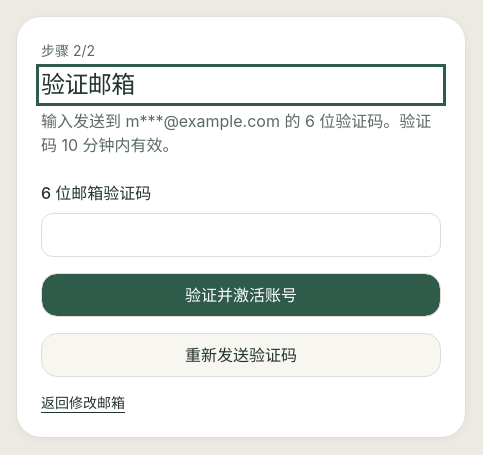
Test: authentication forms › uses the server retry_after cooldown and offers explicit network recovery
The width and height of the screenshot is (483, 455).
Expected: the field labelled "6 位邮箱验证码" is shown, [41, 213, 441, 257]
Click the button "重新发送验证码" at coordinates (241, 355), box [41, 333, 441, 377]
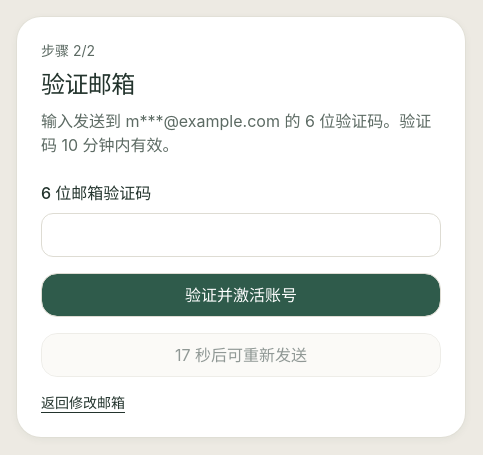
Expected: the button "17 秒后可重新发送" is disabled, [41, 333, 441, 377]
